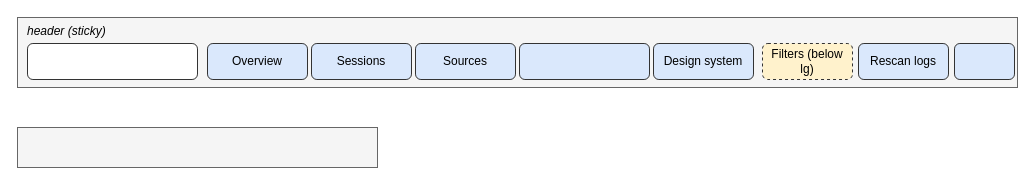
The diagram is 1035 pixels wide and 185 high, and some of its shapes have lost their labels. Here are the shapes that lost their labels. From the top down, the centre of each, then its label:
[112,61]: ai-usage-cost, local read only
[584,61]: Models and pricing
[984,61]: Theme
[197,147]: Legend: the shapes of the region header (sticky)
